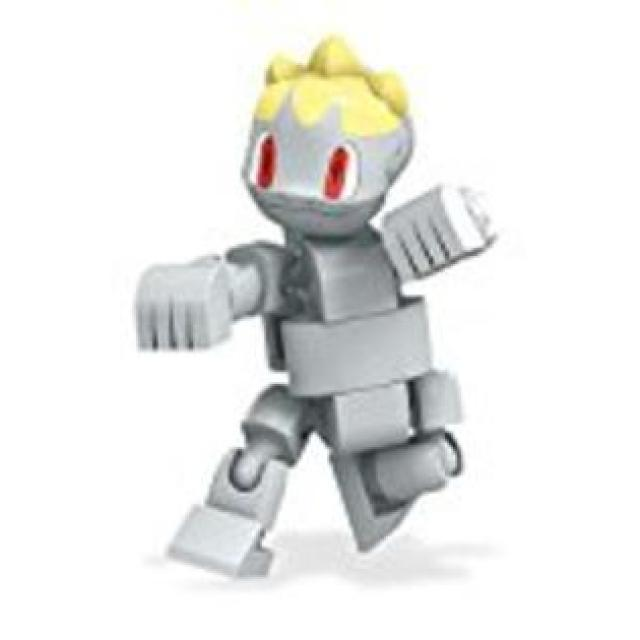Machop: (140, 44, 487, 576)
